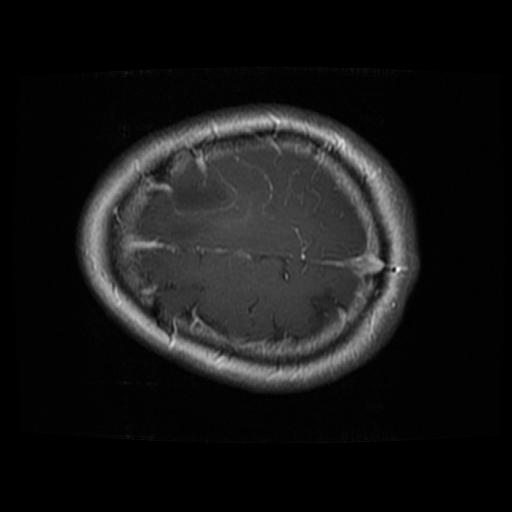glioma: (167, 159, 239, 216)
